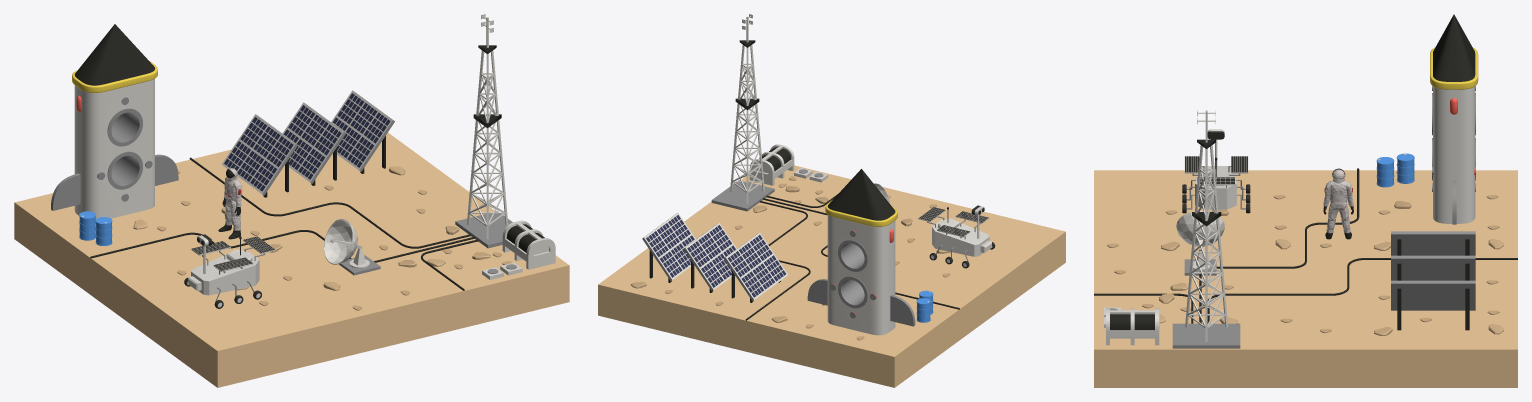
File: 00 Space_11.FBX
3 renders of one model, left to right at view 1: azimuth 30°, elevation 25°; view 2: azimuth 150°, elevation 25°; view 3: azimuth 270°, elevation 25°, orthographic. The views are drawn at different scales.
Visible parts, largest first — view 1: Box001, Box002 (×2), Space_11, Box008, GeoSphere004, suit, Line044, Line047, Cylinder094, Cylinder096; view 2: Box001, Box002 (×2), Space_11, Box008, Line044; view 3: Box001, Box002 (×2), Space_11, Box008, suit, GeoSphere004, Line044, Line047, Cylinder094, Cylinder096.
Part boxes in pixels (bbox=[...]): Box001: bbox=[14, 132, 569, 387]; Box002 (×2): bbox=[51, 24, 275, 308]; Space_11: bbox=[222, 90, 555, 269]; Box008: bbox=[455, 14, 512, 248]; GeoSphere004: bbox=[324, 219, 380, 275]; suit: bbox=[218, 168, 242, 239]; Line044: bbox=[189, 157, 470, 248]; Line047: bbox=[90, 230, 351, 258]; Cylinder094: bbox=[79, 211, 95, 240]; Cylinder096: bbox=[95, 217, 112, 245]; Box001: bbox=[598, 165, 1065, 387]; Box002 (×2): bbox=[807, 169, 995, 335]; Space_11: bbox=[642, 144, 794, 302]; Box008: bbox=[711, 14, 774, 211]; Line044: bbox=[745, 201, 810, 320]; Box001: bbox=[1094, 170, 1517, 387]; Box002 (×2): bbox=[1182, 14, 1478, 224]; Space_11: bbox=[1106, 231, 1475, 345]; Box008: bbox=[1172, 110, 1240, 348]; suit: bbox=[1323, 168, 1353, 239]; GeoSphere004: bbox=[1176, 211, 1224, 275]; Line044: bbox=[1207, 258, 1517, 323]; Line047: bbox=[1216, 168, 1359, 268]; Cylinder094: bbox=[1396, 153, 1414, 183]; Cylinder096: bbox=[1376, 157, 1394, 187].
Bounding box in the file's own units: 10010 × 6844 × 10000.
